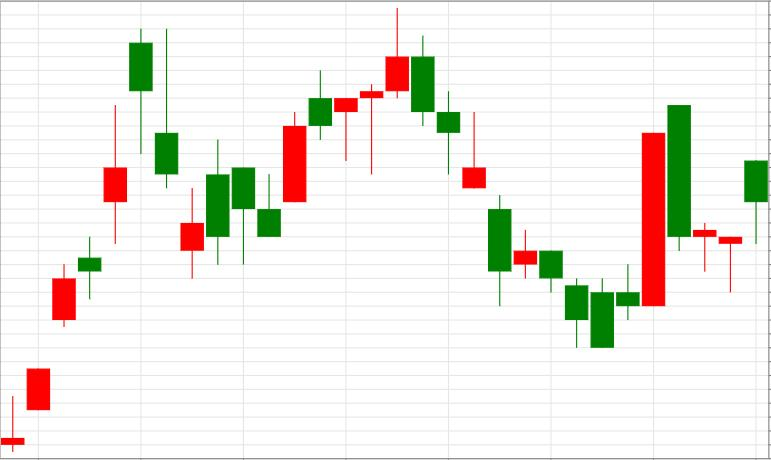shooting_star_fall: (181, 9, 408, 279)
